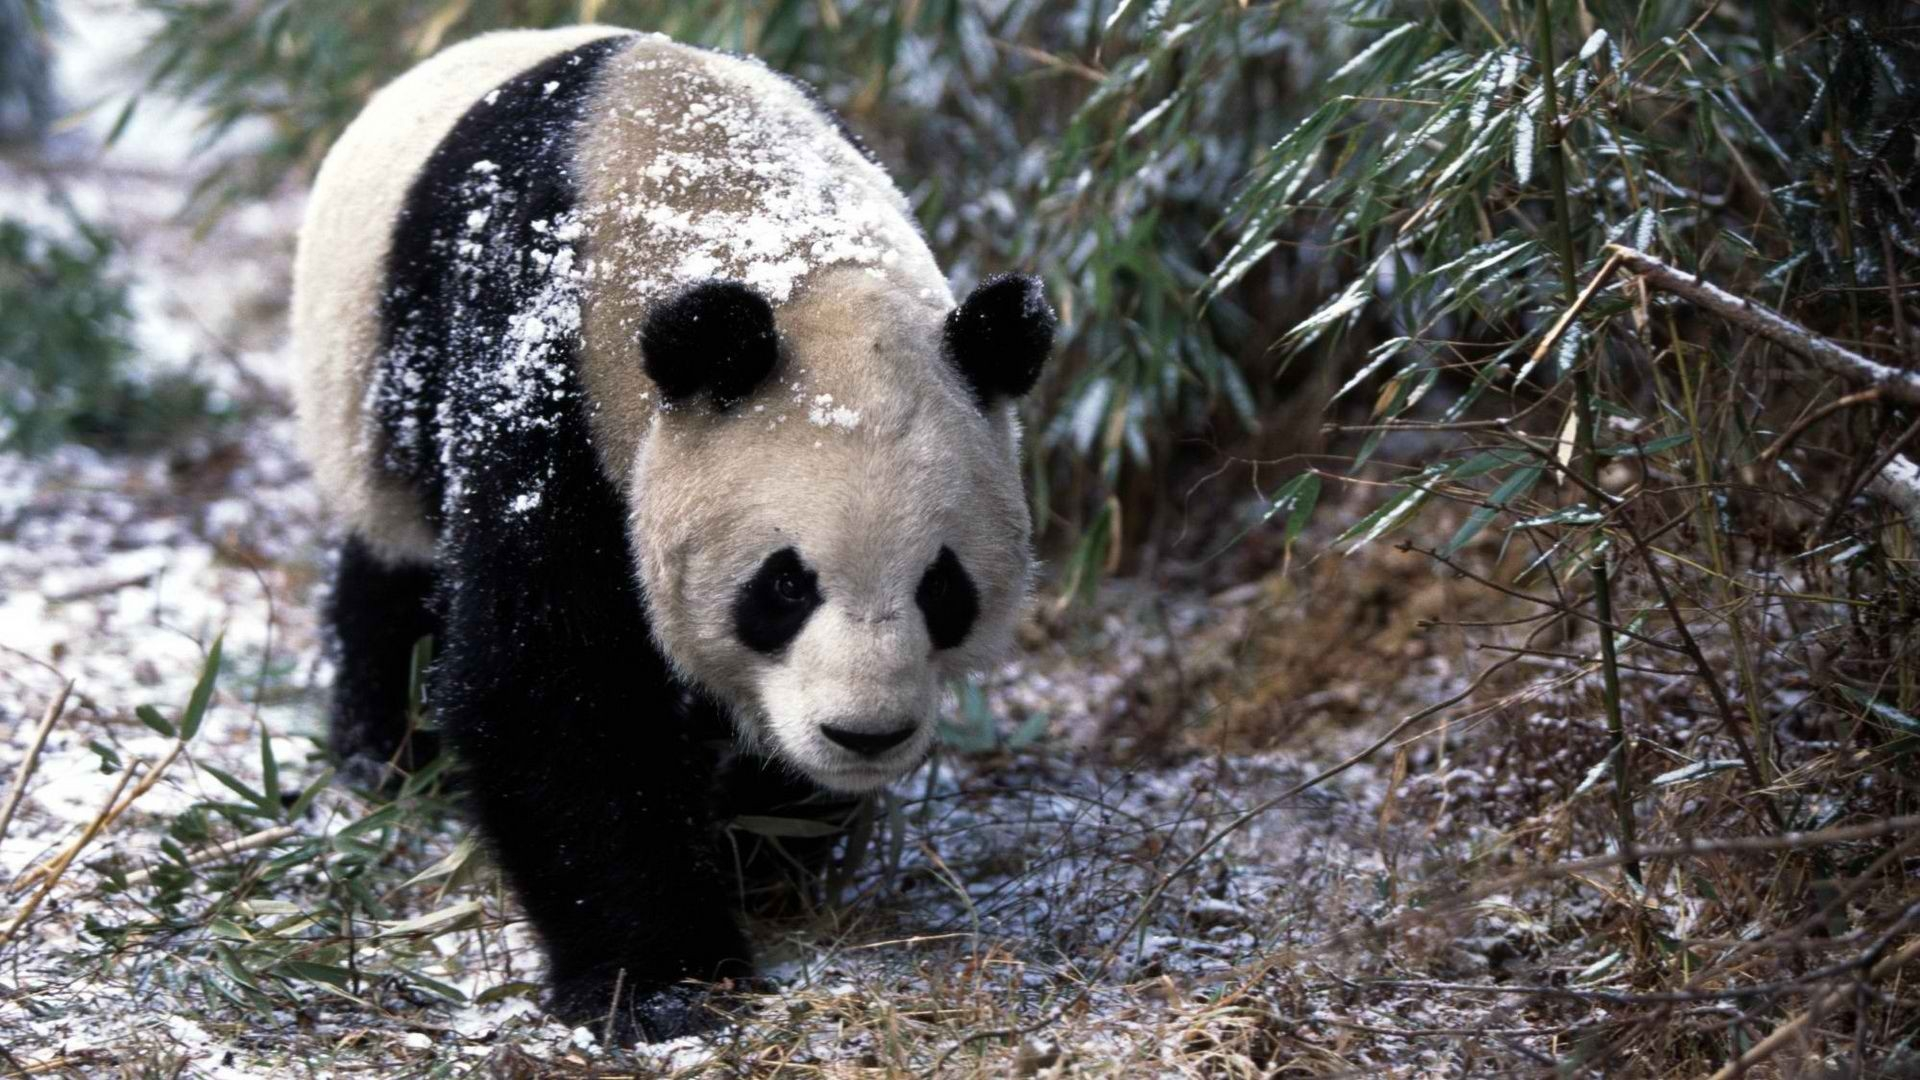panda: (236, 25, 1063, 1044)
